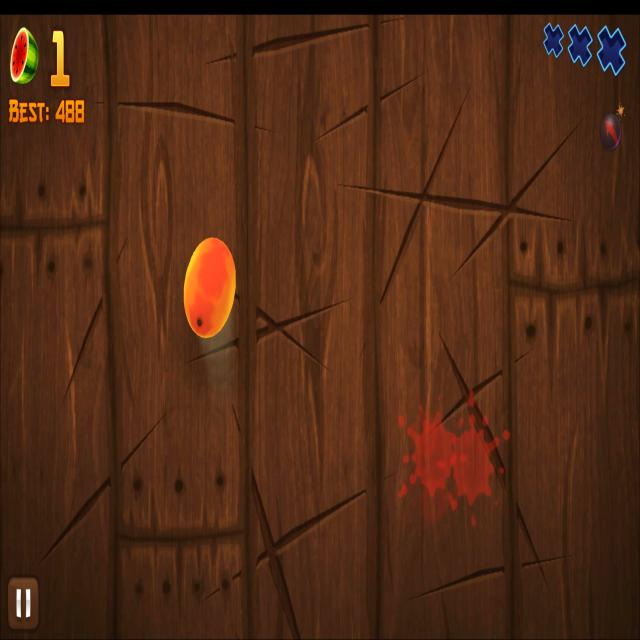fruit: (183, 238, 236, 338)
